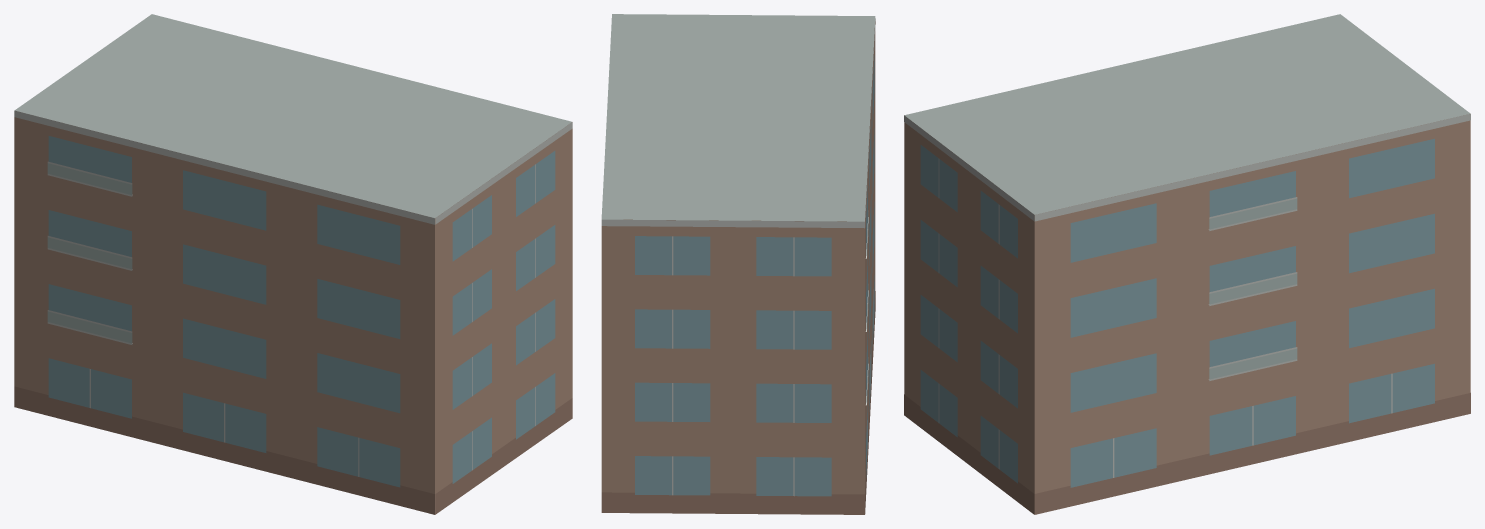
The model's file is survey-upis-32882498.glb.
The picture shows the model from 3 angles, left to right: view 1: azimuth 30°, elevation 25°; view 2: azimuth 150°, elevation 25°; view 3: azimuth 270°, elevation 25°; orthographic projection. The views are drawn at different scales.
Visible parts, largest first — view 1: survey-upis-32882498.tmp; view 2: survey-upis-32882498.tmp; view 3: survey-upis-32882498.tmp.
Part boxes in pixels (x1=…): survey-upis-32882498.tmp: x1=14, y1=14, x2=572, y2=514; survey-upis-32882498.tmp: x1=601, y1=14, x2=875, y2=514; survey-upis-32882498.tmp: x1=904, y1=14, x2=1470, y2=514.
Size of the model in its own units: 15.66 by 10.9 by 18.67.
